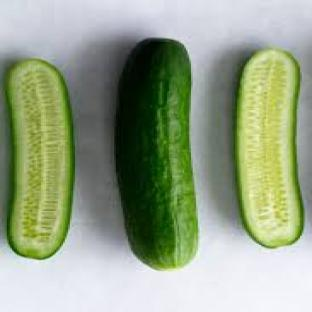Cucumber: (116, 39, 197, 270), (6, 59, 73, 258), (236, 49, 303, 247)
